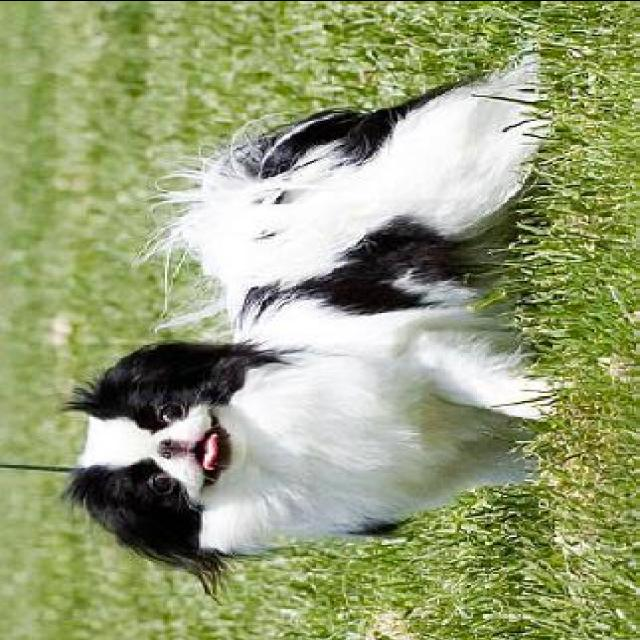husky: (59, 48, 574, 594)
